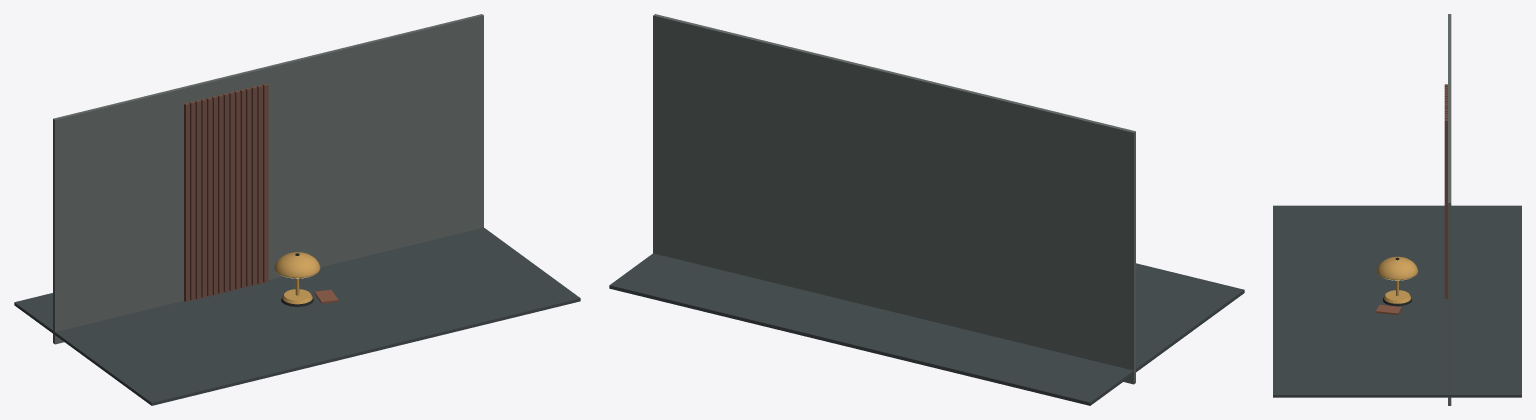
File: desk-lamp.glb
3 views of the same model, side by side, from view 1: azimuth 30°, elevation 25°; view 2: azimuth 150°, elevation 25°; view 3: azimuth 270°, elevation 25° (orthographic). The views are drawn at different scales.
Parts seen in each view (by area): view 1: Plaster backdrop, Slate desk, Walnut slat 7, Walnut slat 12, Walnut slat 2, Walnut slat 1, Walnut slat 6, Walnut slat 9, Walnut slat 14, Walnut slat 4, Walnut slat 0, Walnut slat 8 (+6 smaller); view 2: Plaster backdrop, Slate desk; view 3: Slate desk, Plaster backdrop, Spun brass shade, Walnut slat 14, Brass base.
Boxes of the visible parts, <box> form: Plaster backdrop: <box>53,14,483,344</box>; Slate desk: <box>14,227,580,405</box>; Walnut slat 7: <box>223,93,229,292</box>; Walnut slat 12: <box>251,86,257,285</box>; Walnut slat 2: <box>195,100,201,299</box>; Walnut slat 1: <box>189,101,195,300</box>; Walnut slat 6: <box>217,94,223,293</box>; Walnut slat 9: <box>234,90,240,289</box>; Walnut slat 14: <box>262,83,268,282</box>; Walnut slat 4: <box>206,97,212,296</box>; Walnut slat 0: <box>184,102,189,301</box>; Walnut slat 8: <box>229,91,234,290</box>; Plaster backdrop: <box>653,14,1135,384</box>; Slate desk: <box>609,253,1244,405</box>; Slate desk: <box>1273,205,1521,397</box>; Plaster backdrop: <box>1448,14,1451,405</box>; Spun brass shade: <box>1376,256,1418,280</box>; Walnut slat 14: <box>1444,119,1447,298</box>; Brass base: <box>1383,290,1411,303</box>.
Size of the model in its own units: 18 by 9 by 10.
